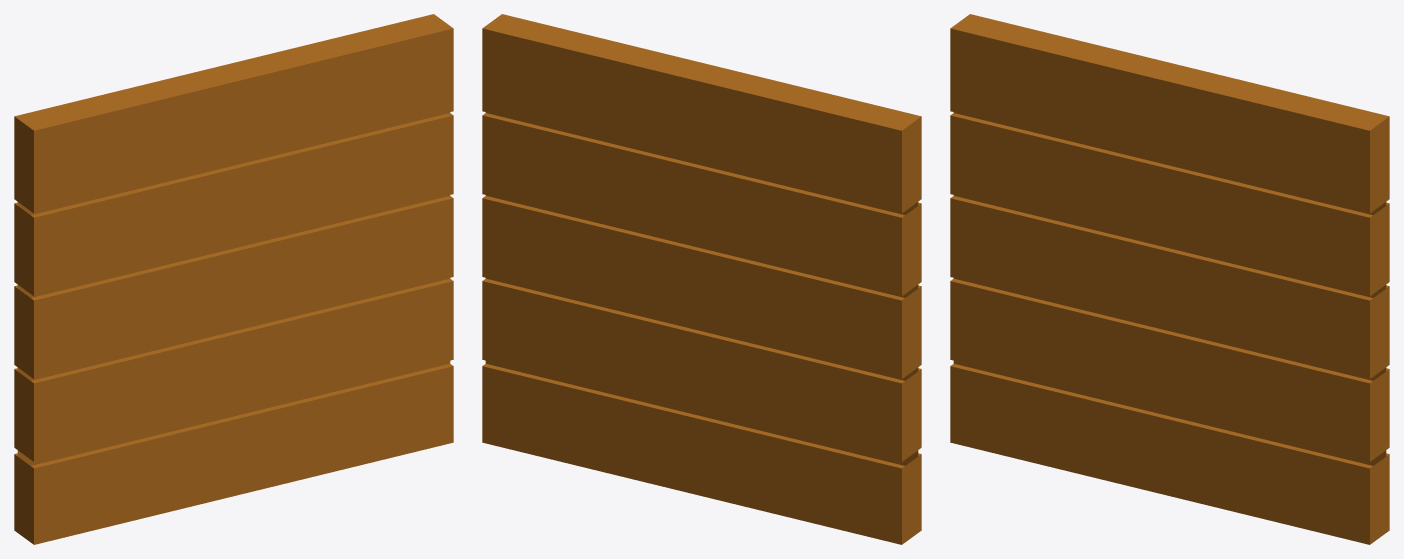
File: Wall01_house5.obj
3 views of the same model, side by side, from view 1: azimuth 30°, elevation 25°; view 2: azimuth 150°, elevation 25°; view 3: azimuth 330°, elevation 25° (orthographic).
Visible parts, largest first — view 1: Wall01_house05_Cube.001; view 2: Wall01_house05_Cube.001; view 3: Wall01_house05_Cube.001.
Part boxes in pixels (x1,y1,x2,y2): Wall01_house05_Cube.001: (14, 14, 453, 544); Wall01_house05_Cube.001: (482, 14, 921, 544); Wall01_house05_Cube.001: (950, 14, 1389, 544).
Size of the model in its own units: 3.19 by 3 by 0.26.
